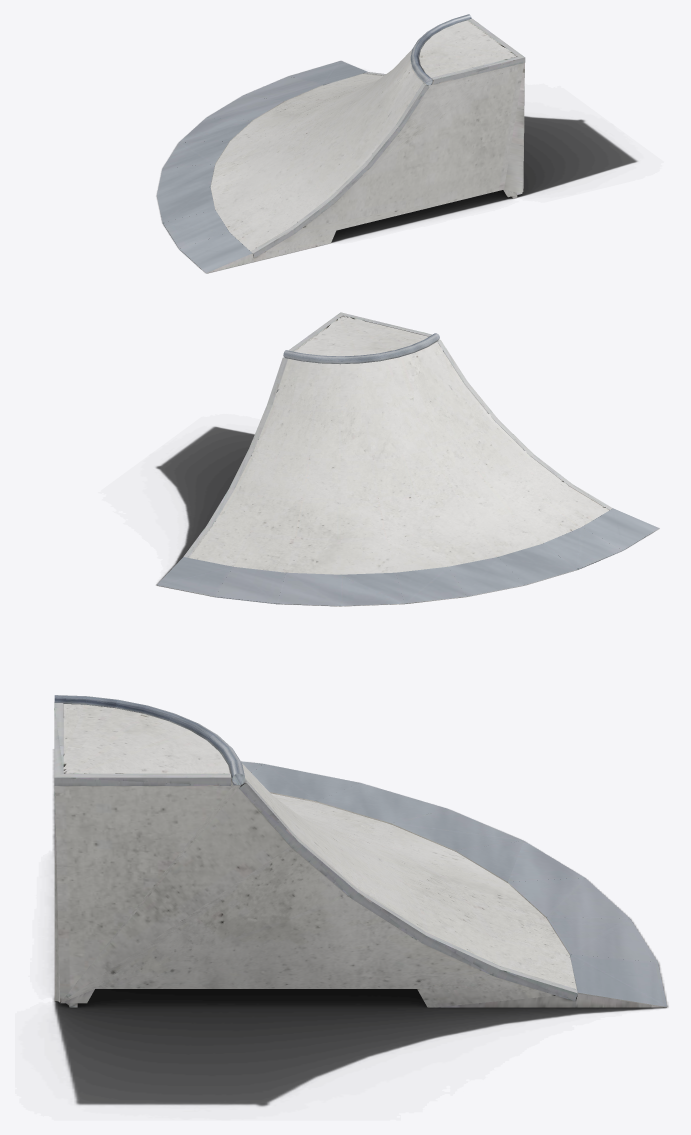
The model's file is kegel-98.gltf.
The picture shows the model from 3 angles, top to bottom: view 1: azimuth 30°, elevation 25°; view 2: azimuth 150°, elevation 25°; view 3: azimuth 270°, elevation 25°; orthographic projection. The views are drawn at different scales.
Visible parts, largest first — view 1: SK0895_Kegel_98.001, Schatten; view 2: SK0895_Kegel_98.001, Schatten; view 3: SK0895_Kegel_98.001, Schatten.
Part boxes in pixels (x1=…): SK0895_Kegel_98.001: x1=157, y1=14, x2=525, y2=273; Schatten: x1=156, y1=116, x2=637, y2=273; SK0895_Kegel_98.001: x1=156, y1=312, x2=659, y2=606; Schatten: x1=156, y1=426, x2=653, y2=606; SK0895_Kegel_98.001: x1=54, y1=695, x2=666, y2=1007; Schatten: x1=53, y1=749, x2=668, y2=1106.
Size of the model in its own units: 3.37 by 0.9791 by 2.51.
Materials: 4 (4 with a texture image).
